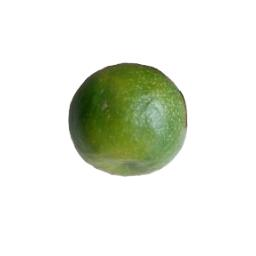Unripe: (68, 64, 187, 173)
